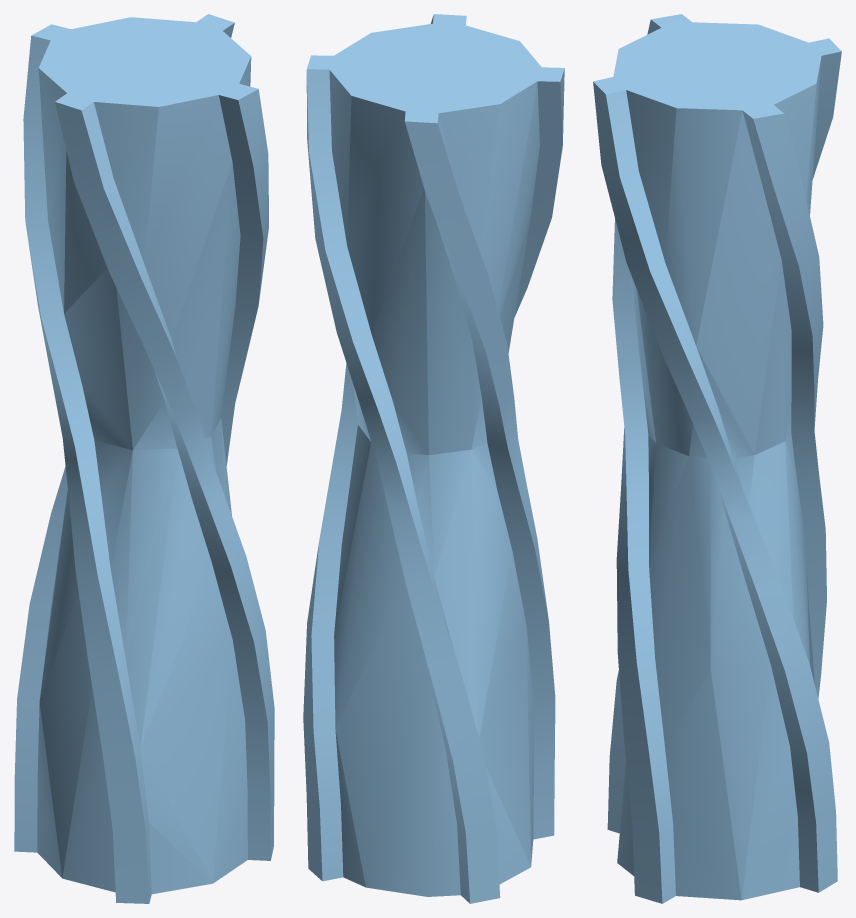
3 views of the same model, side by side, from view 1: azimuth 30°, elevation 25°; view 2: azimuth 150°, elevation 25°; view 3: azimuth 270°, elevation 25° (orthographic).
Visible parts, largest first — view 1: B11_New; view 2: B11_New; view 3: B11_New.
Part boxes in pixels (x1=…): B11_New: x1=14, y1=14, x2=274, y2=903; B11_New: x1=303, y1=14, x2=564, y2=903; B11_New: x1=593, y1=14, x2=841, y2=903.
Size of the model in its own units: 2138 by 7473 by 2138.
